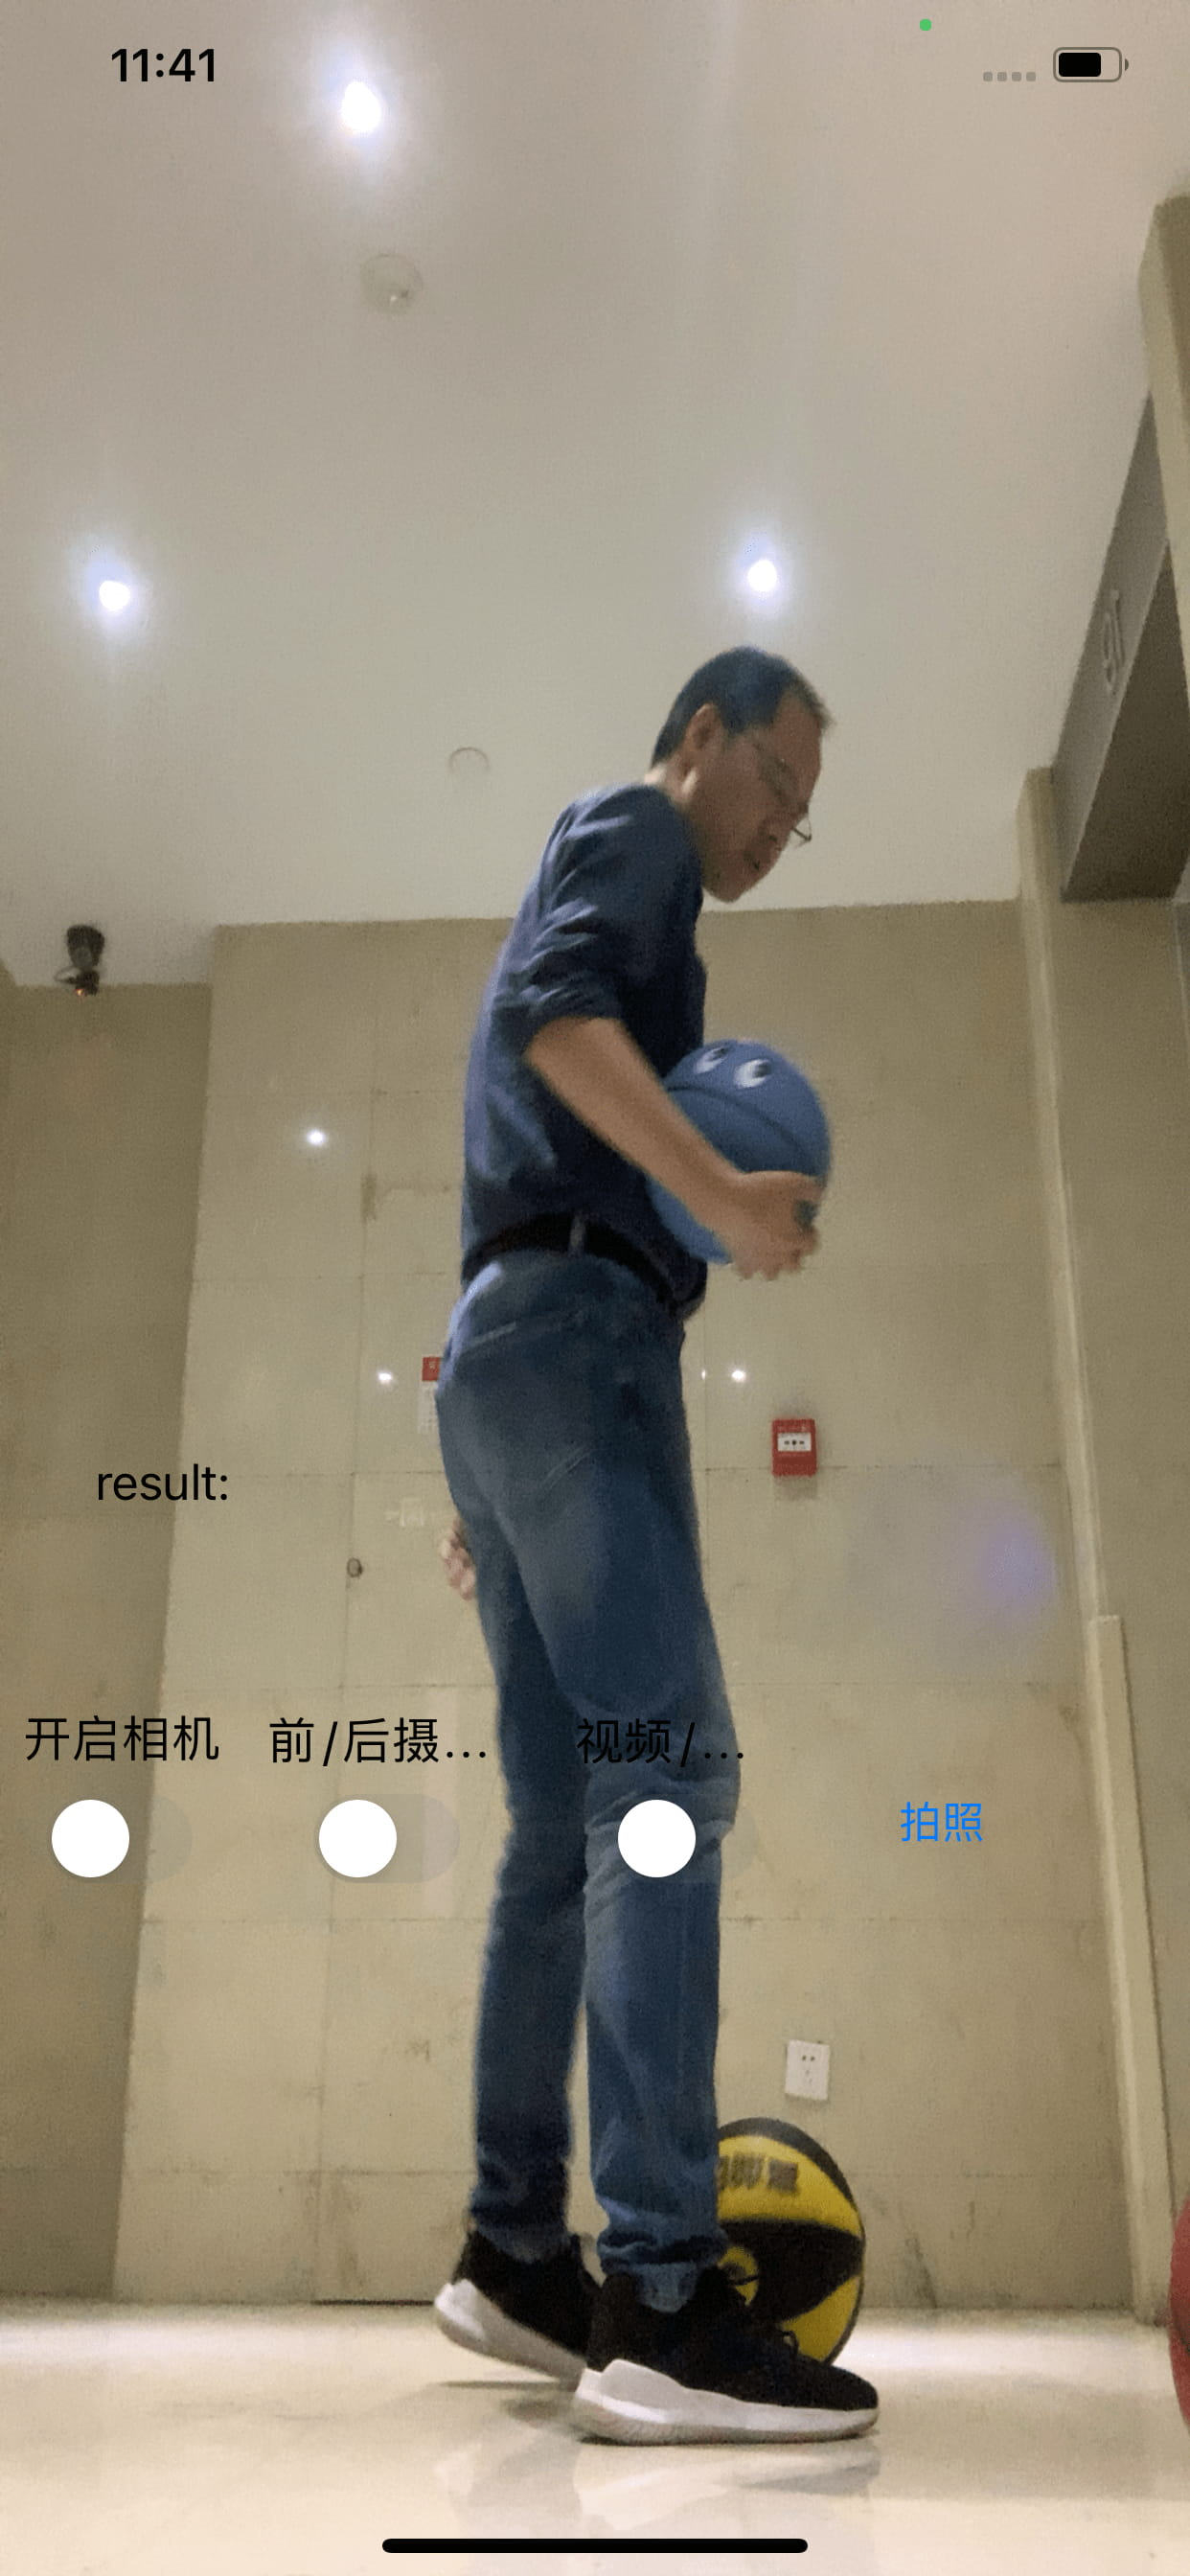ball: (646, 1042, 833, 1268)
